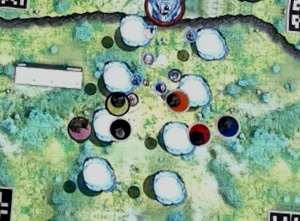black: (107, 115, 132, 140)
blue: (215, 113, 240, 138)
lime_green_violet: (107, 90, 132, 115)
orange: (165, 88, 190, 113)
pink_green: (68, 115, 93, 140)
red: (187, 122, 212, 147)
